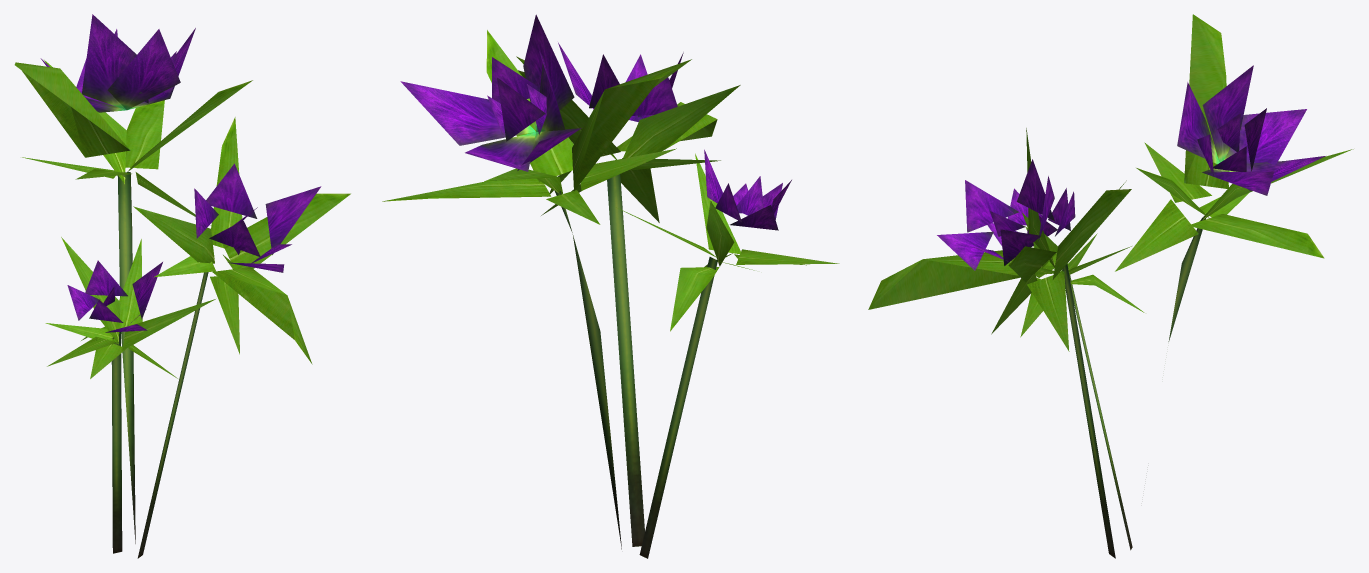
The model's file is leafplant9_lod2.fbx.
3 renders of one model, left to right at view 1: azimuth 30°, elevation 25°; view 2: azimuth 150°, elevation 25°; view 3: azimuth 270°, elevation 25°, orthographic. The views are drawn at different scales.
Parts seen in each view (by area): view 1: Mesh Object; view 2: Mesh Object; view 3: Mesh Object.
Part boxes in pixels (x1,y1,x2,y2): Mesh Object: [14, 14, 350, 558]; Mesh Object: [382, 14, 839, 558]; Mesh Object: [868, 14, 1353, 558].
Size of the model in its own units: 0.6621 by 1.04 by 0.9117.
